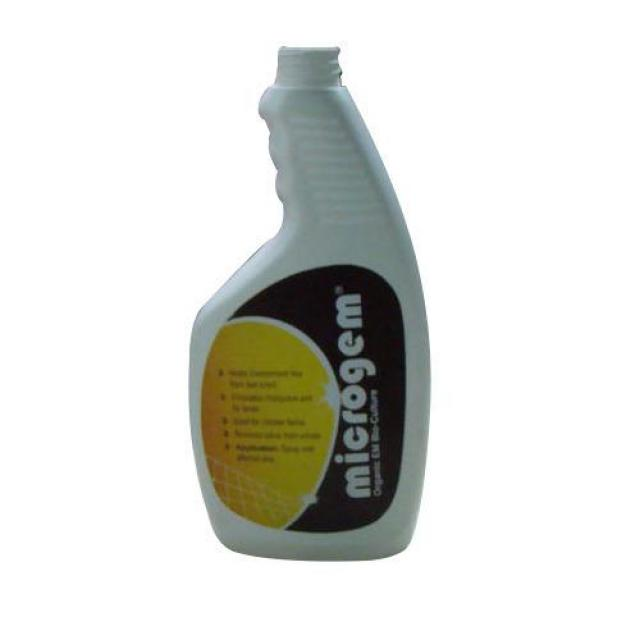plastic_bottle: (179, 33, 449, 572)
